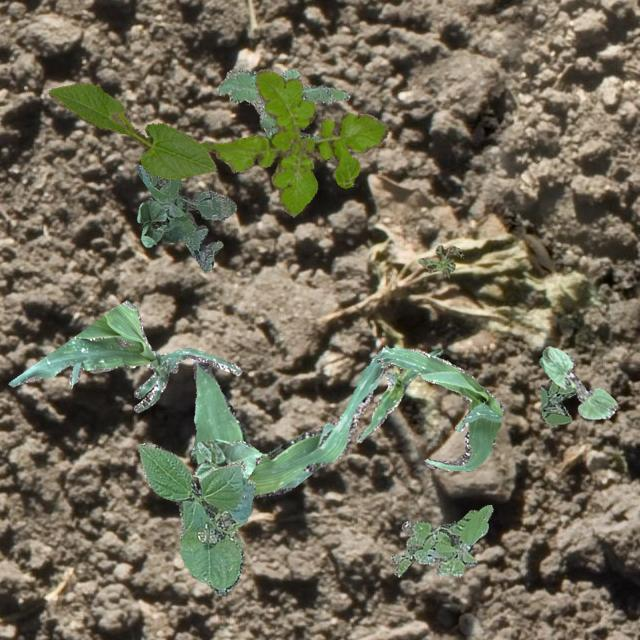crop: (190, 344, 388, 498), (8, 299, 240, 412), (137, 442, 253, 594), (48, 82, 216, 178), (374, 346, 502, 471), (354, 348, 442, 442), (538, 344, 616, 418), (192, 438, 260, 484), (136, 198, 186, 246)
weed: (198, 68, 388, 215), (134, 164, 235, 272), (215, 68, 348, 140), (390, 504, 492, 576), (540, 378, 574, 424), (418, 243, 462, 276)
